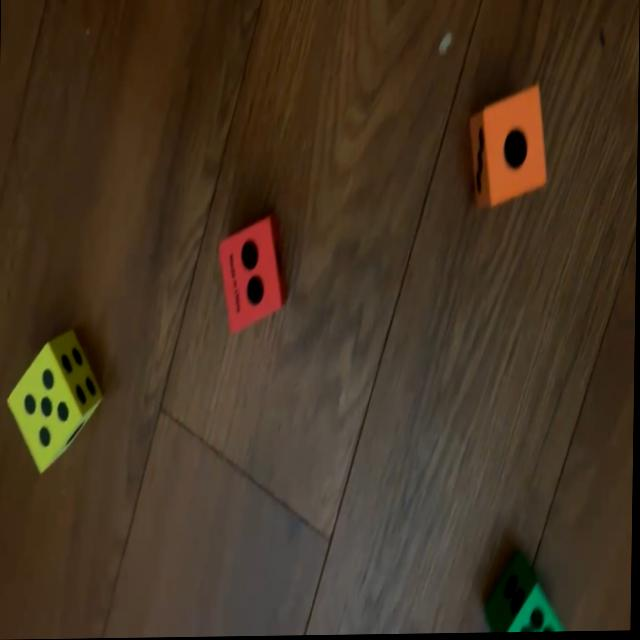red_block: (217, 219, 290, 332)
